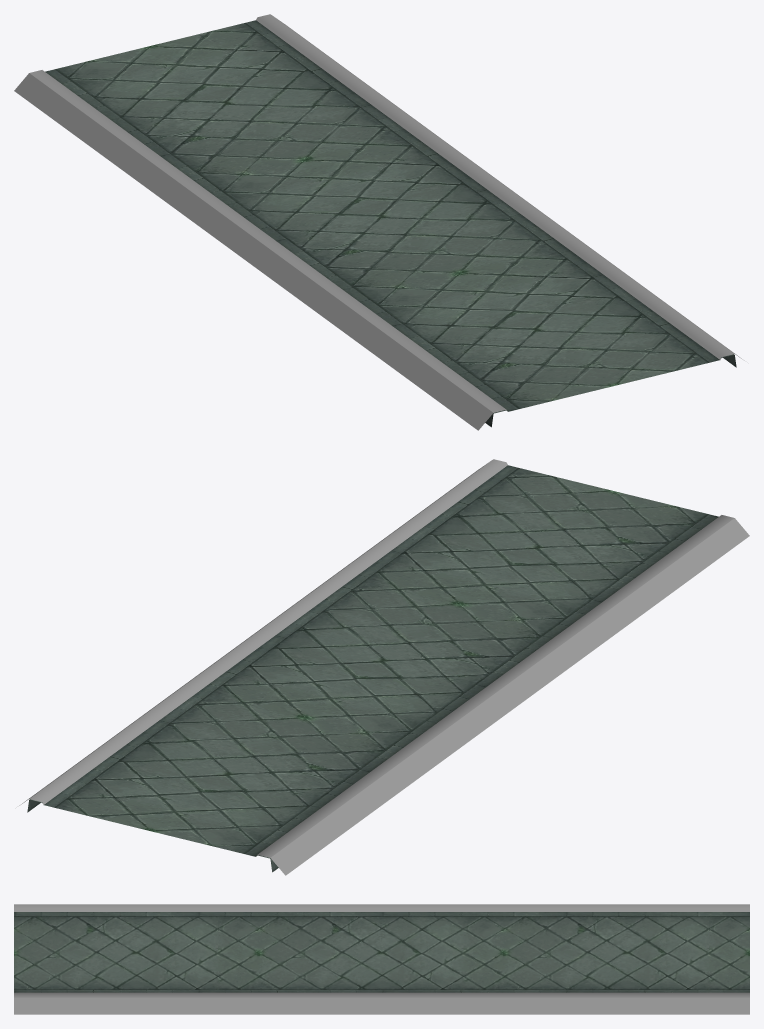
The model's file is JiaYeSi_LuMian_1.FBX.
3 renders of one model, top to bottom at view 1: azimuth 30°, elevation 25°; view 2: azimuth 150°, elevation 25°; view 3: azimuth 270°, elevation 25°, orthographic. The views are drawn at different scales.
Visible parts, largest first — view 1: JiaYeSi_LuMian_1, JiaYeSi_LuMian_1_Xzm; view 2: JiaYeSi_LuMian_1, JiaYeSi_LuMian_1_Xzm; view 3: JiaYeSi_LuMian_1, JiaYeSi_LuMian_1_Xzm.
Part boxes in pixels (left/top/right/bottom): JiaYeSi_LuMian_1: left=45, top=20, right=736, bottom=427; JiaYeSi_LuMian_1_Xzm: left=14, top=14, right=744, bottom=430; JiaYeSi_LuMian_1: left=27, top=465, right=718, bottom=872; JiaYeSi_LuMian_1_Xzm: left=19, top=459, right=749, bottom=875; JiaYeSi_LuMian_1: left=14, top=912, right=749, bottom=992; JiaYeSi_LuMian_1_Xzm: left=14, top=904, right=749, bottom=1014.
Bounding box in the file's own units: 111 × 5.59 × 330.
2 materials, 1 textured.
